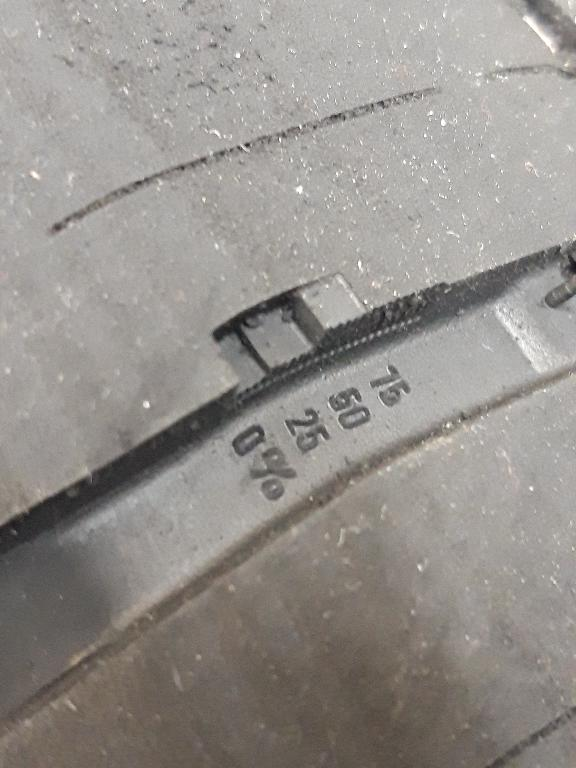temoin:50: (198, 263, 389, 417)
